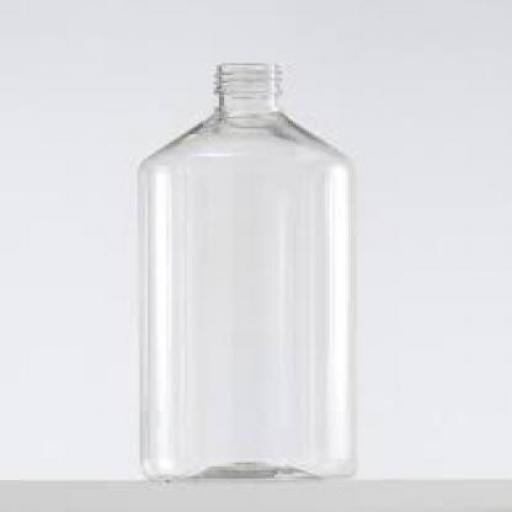glass: (137, 61, 354, 477)
